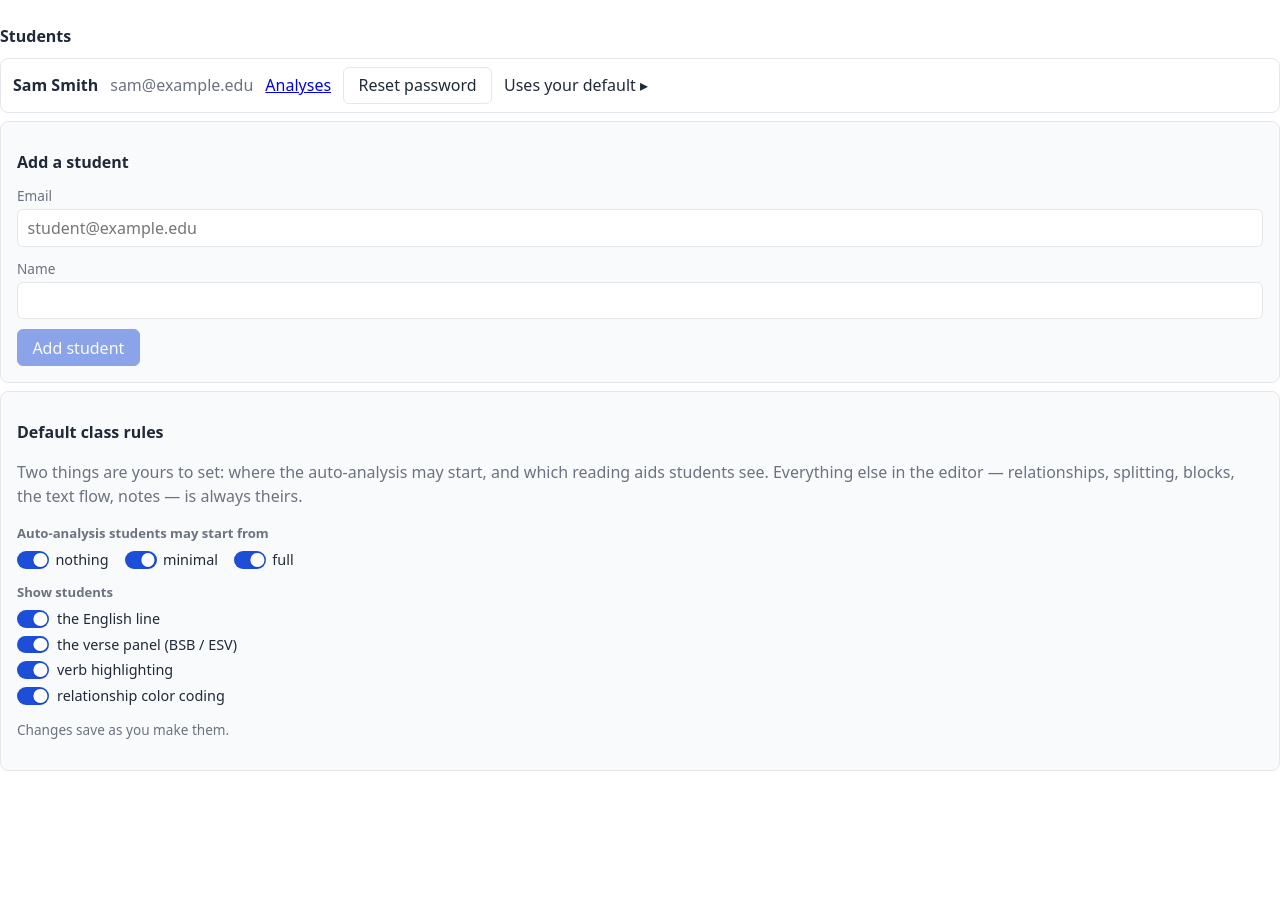
Scenario: /teach/:id — the policy editor › shows the invite link only when the server returned one
Expected: the link "Analyses" is shown, [265,73,331,97]
Type "kid@example.edu" into the field labelled "Email".
click(640, 228); type("kid@example.edu")  # box [17,209,1263,247]
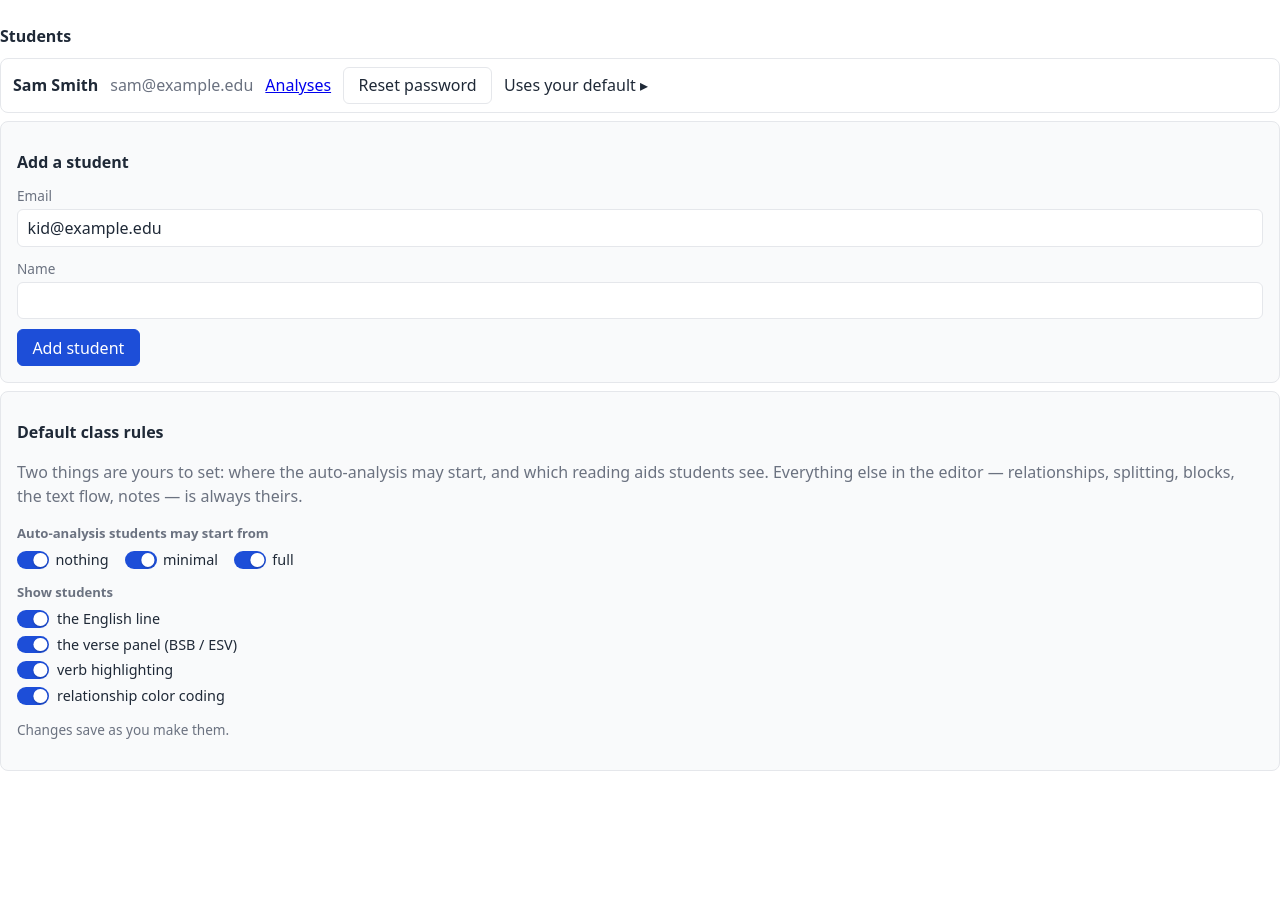
Click the button "Add student".
click(78, 348)  # box [17,329,140,366]
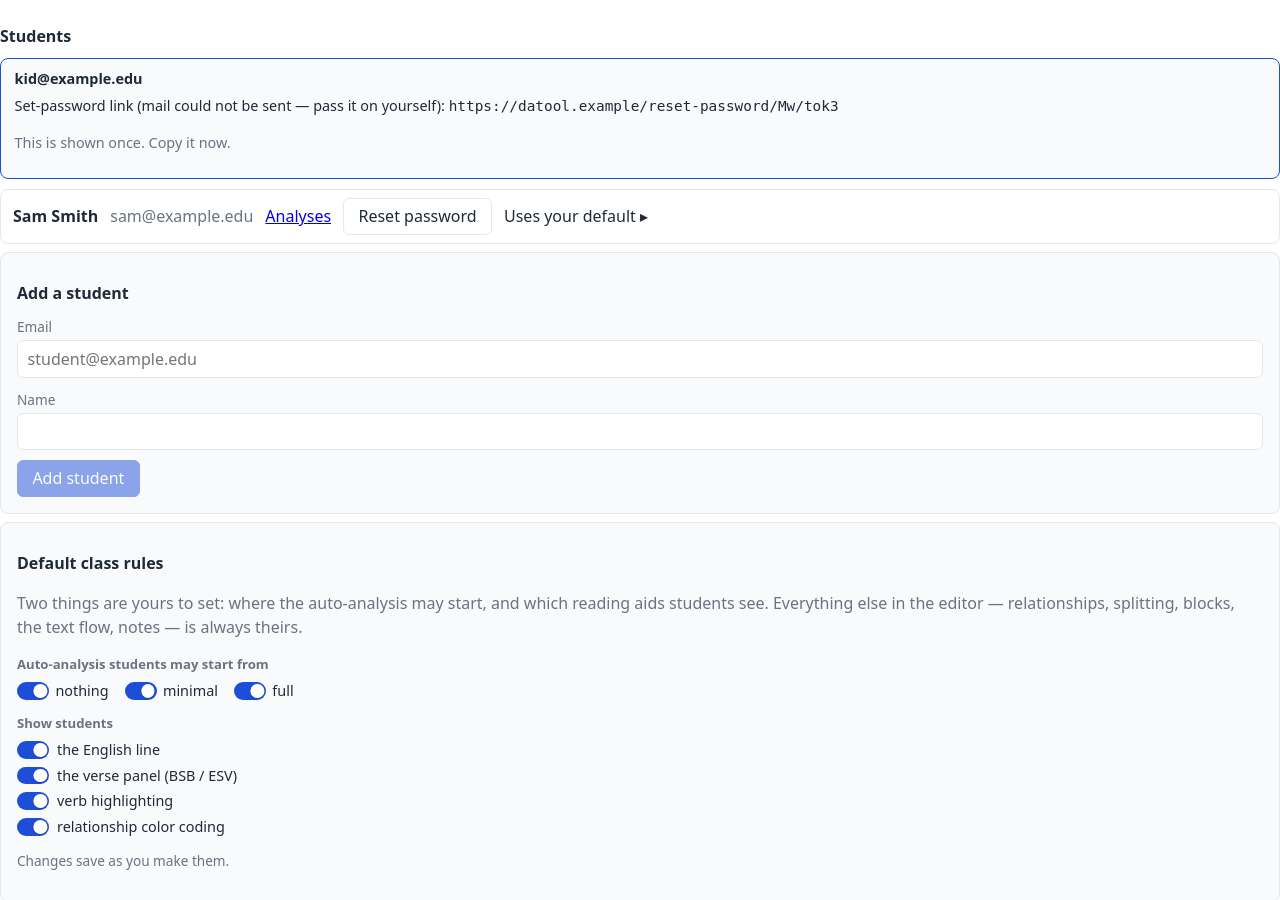
Result: the text "https://datool.example/reset-password/Mw/tok3" is shown at [449,98,839,114]
